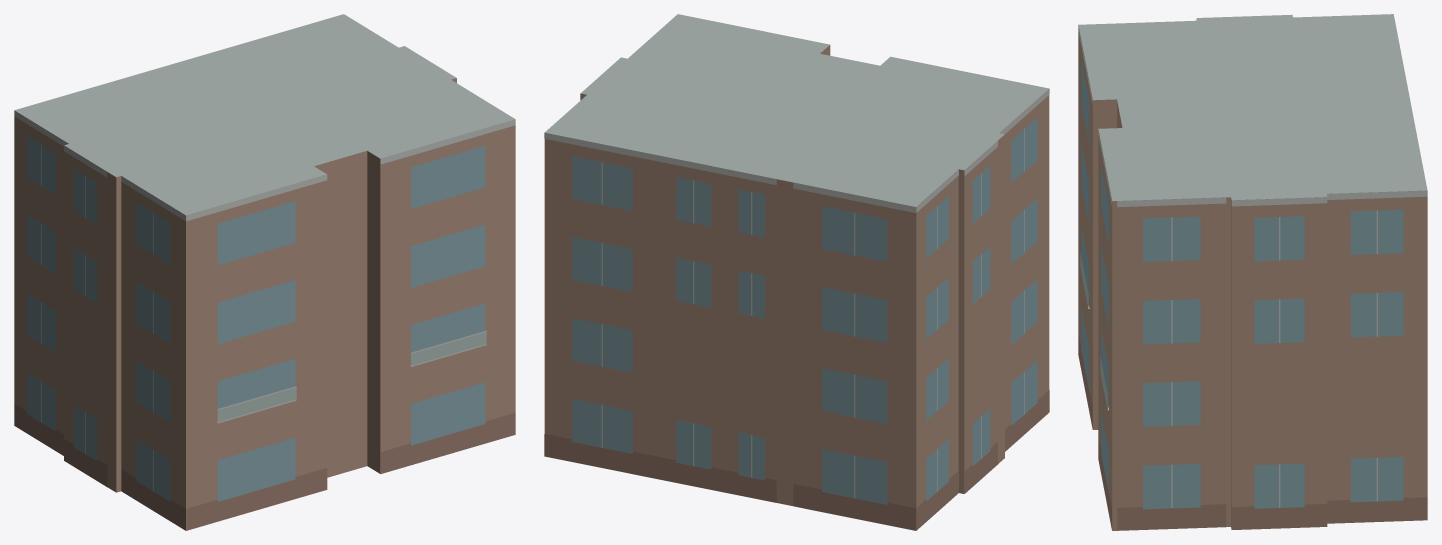
File: survey-upis-32955319.glb
The picture shows the model from 3 angles, left to right: view 1: azimuth 30°, elevation 25°; view 2: azimuth 150°, elevation 25°; view 3: azimuth 270°, elevation 25°; orthographic projection. The views are drawn at different scales.
Visible parts, largest first — view 1: survey-upis-32955319.tmp; view 2: survey-upis-32955319.tmp; view 3: survey-upis-32955319.tmp.
Boxes of the visible parts, left/top/right/bottom form: survey-upis-32955319.tmp: left=14, top=14, right=515, bottom=530; survey-upis-32955319.tmp: left=544, top=14, right=1049, bottom=530; survey-upis-32955319.tmp: left=1078, top=14, right=1427, bottom=530.
Bounding box in the file's own units: 15.77 × 12.95 × 12.44.
